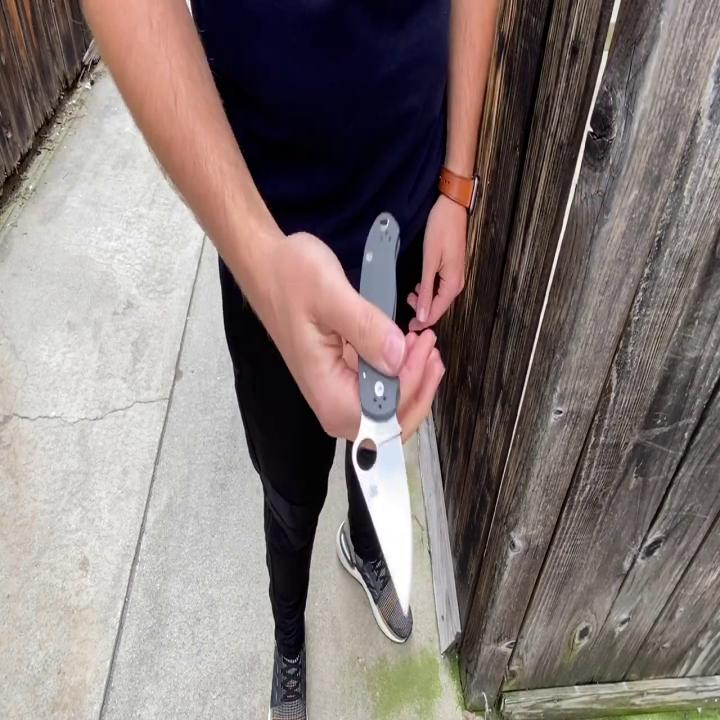knife: (349, 203, 419, 625)
